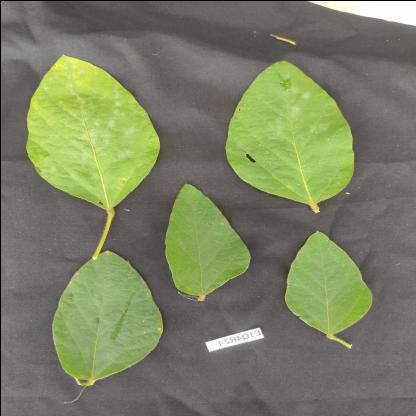label: (192, 317, 266, 357)
leaflets: (13, 40, 154, 196), (221, 54, 360, 190), (46, 245, 166, 391), (276, 223, 384, 349), (154, 180, 250, 304)
